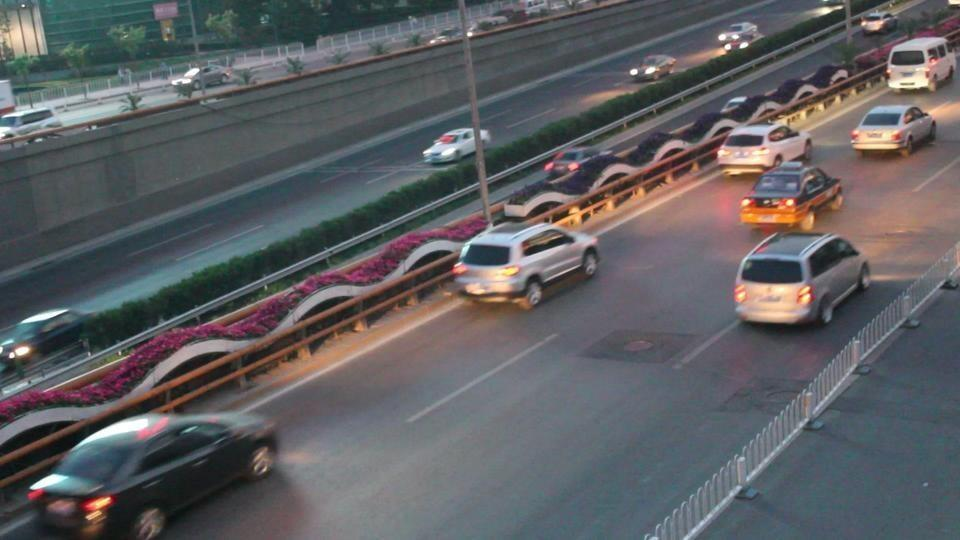car: (26, 410, 280, 539), (451, 219, 602, 310), (733, 231, 872, 327), (504, 148, 640, 225), (738, 161, 845, 230), (0, 307, 89, 369), (716, 122, 814, 176), (848, 104, 937, 159), (884, 35, 957, 94), (422, 127, 492, 166), (169, 64, 234, 96), (0, 108, 54, 140), (628, 54, 679, 82)
